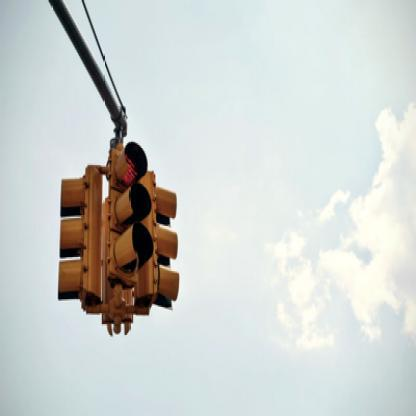trafficlight: (52, 167, 101, 318), (107, 144, 150, 316), (152, 160, 180, 314)
